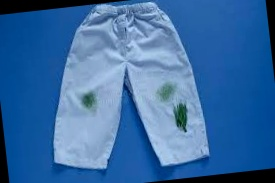earth: (173, 103, 190, 130), (157, 83, 173, 101), (83, 93, 96, 109)
